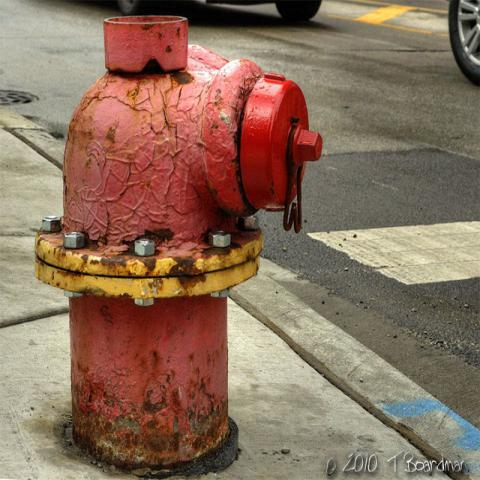car: (103, 0, 326, 25), (448, 0, 480, 89)
